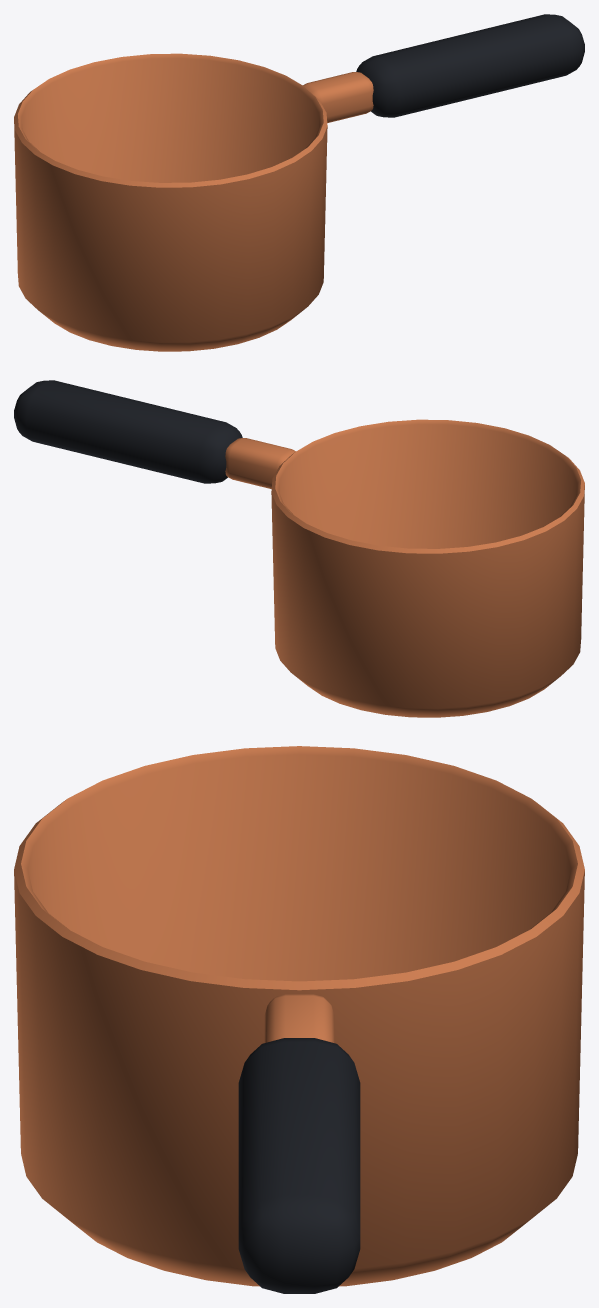
The model's file is panela_cabo_cobre.glb.
3 views of the same model, one above another, from view 1: azimuth 30°, elevation 25°; view 2: azimuth 150°, elevation 25°; view 3: azimuth 270°, elevation 25° (orthographic). The views are drawn at different scales.
Visible parts, largest first — view 1: panela_cabo_cobre; view 2: panela_cabo_cobre; view 3: panela_cabo_cobre.
Boxes of the visible parts, x1,y1,x2,y2 form: panela_cabo_cobre: [14, 14, 584, 351]; panela_cabo_cobre: [14, 380, 584, 717]; panela_cabo_cobre: [14, 746, 584, 1293].
Size of the model in its own units: 0.327 by 0.105 by 0.164.
1 material, 1 textured.
